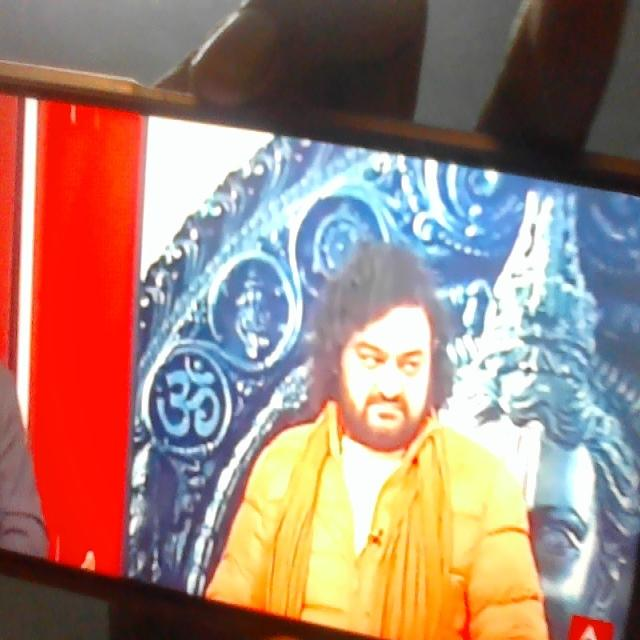fake: (311, 216, 456, 489)
